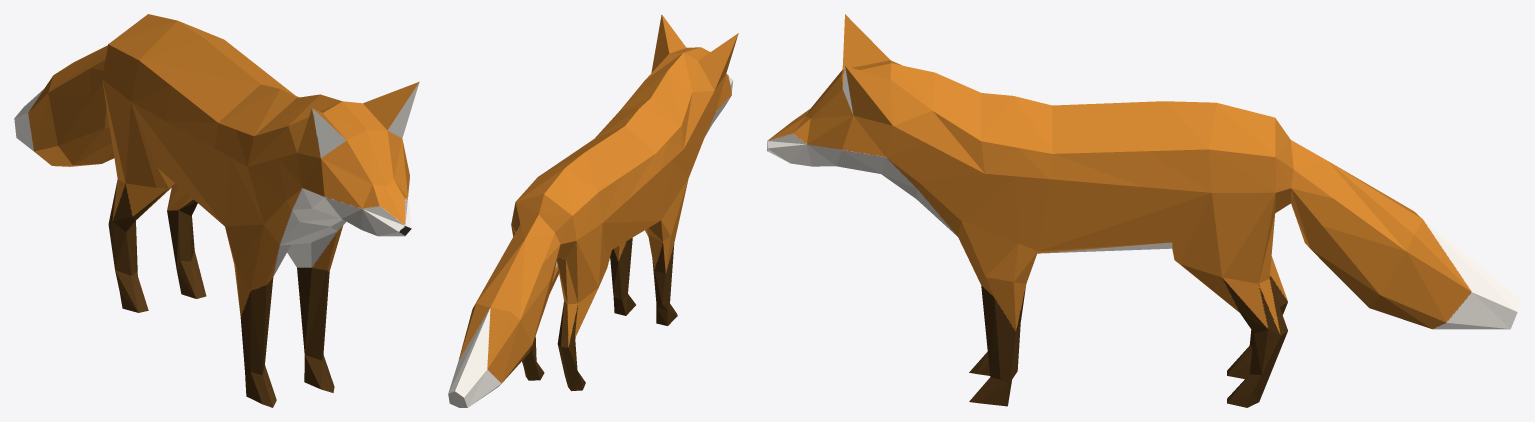
File: fox.gltf
The picture shows the model from 3 angles, left to right: view 1: azimuth 30°, elevation 25°; view 2: azimuth 150°, elevation 25°; view 3: azimuth 270°, elevation 25°; orthographic projection. The views are drawn at different scales.
Parts seen in each view (by area): view 1: fox; view 2: fox; view 3: fox.
Part boxes in pixels (box(x1,y1,x2,y2)): fox: box(14, 14, 419, 407); fox: box(448, 14, 738, 407); fox: box(767, 14, 1520, 407).
Bounding box in the file's own units: 25.19 × 79.03 × 155.
1 material, 1 textured.
